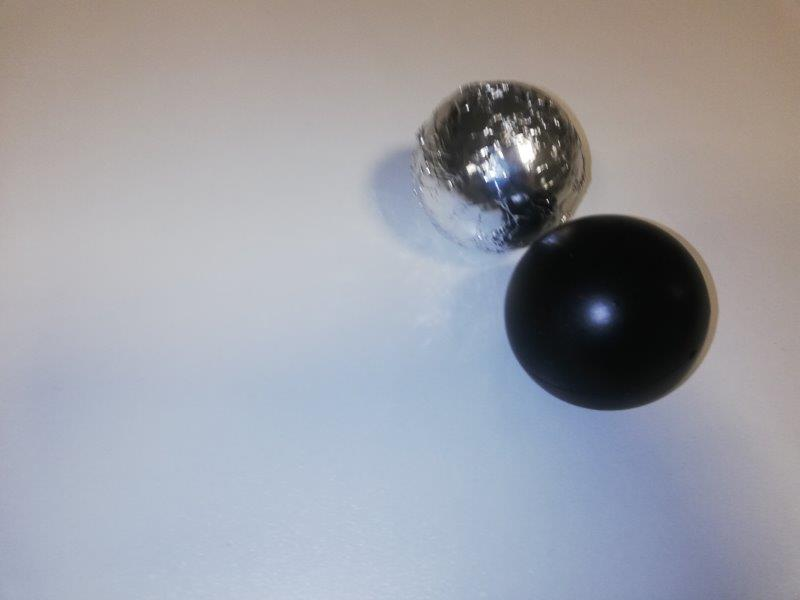bianca: (410, 74, 593, 251)
nera: (502, 213, 715, 411)
